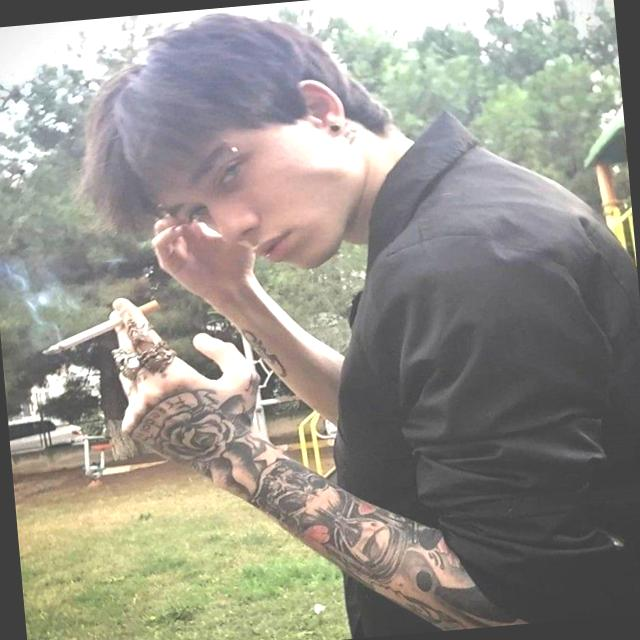cigarette: (6, 292, 184, 369)
